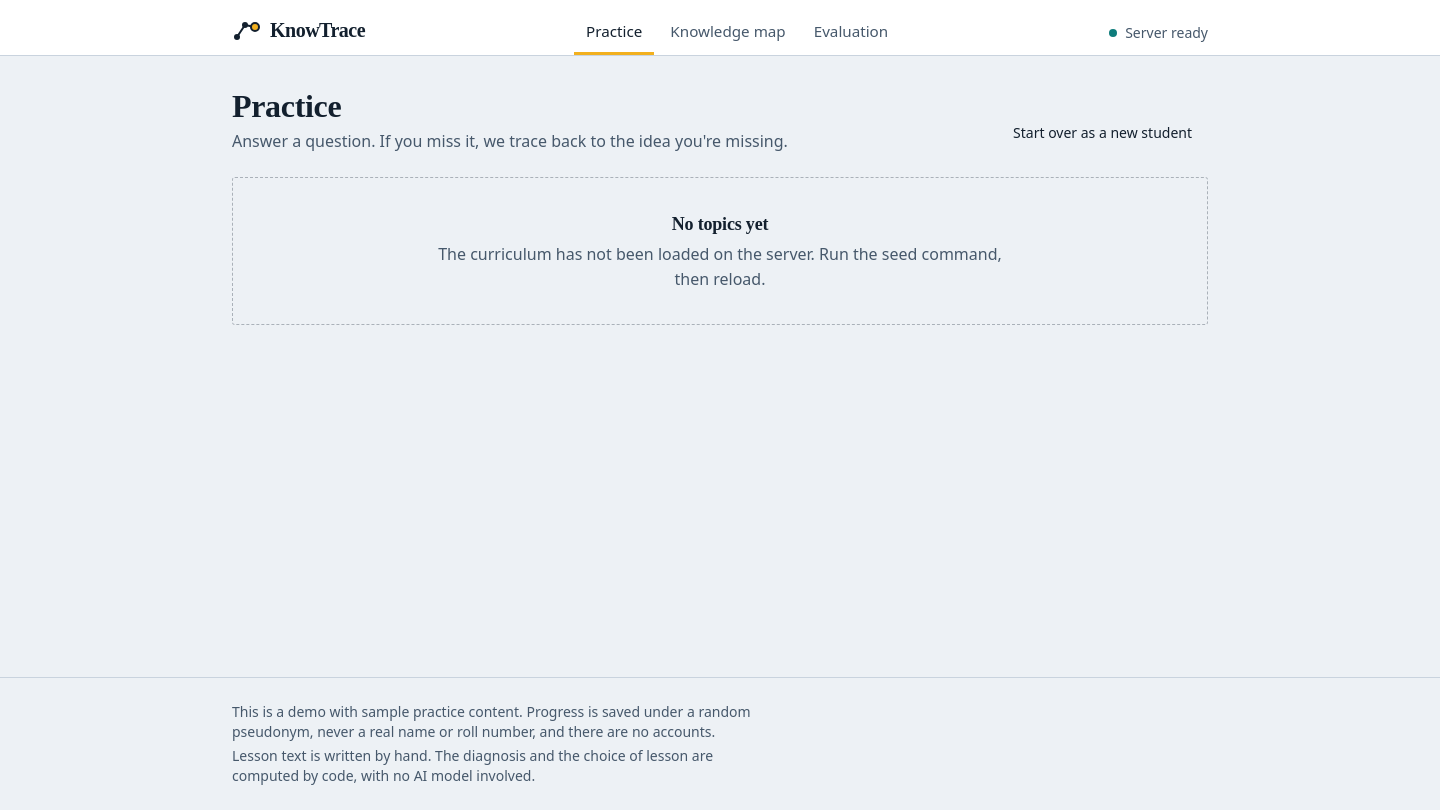
Test case: app shell › navigates with the keyboard
Click the link "Evaluation".
click(851, 31)  # box left=814, top=21, right=888, bottom=41
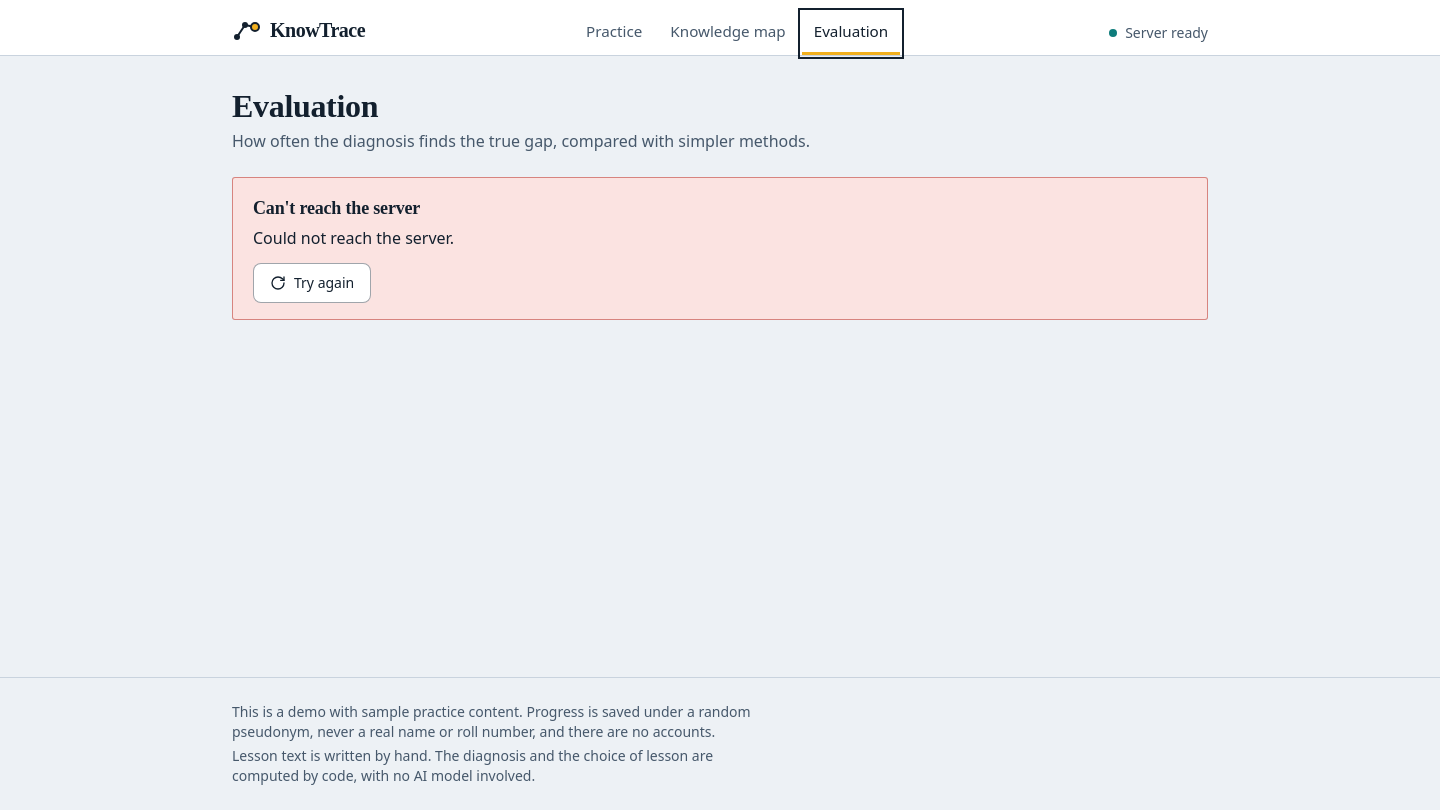
Expected: the heading "Evaluation" is shown, left=232, top=88, right=378, bottom=124
